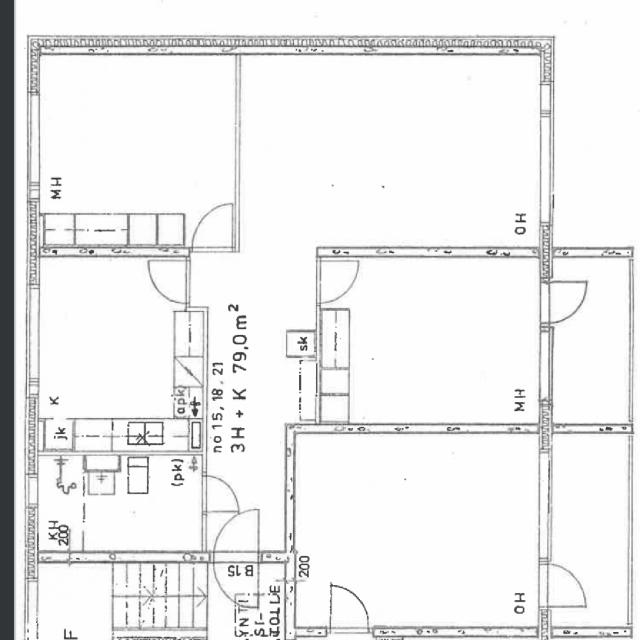door: (213, 550, 259, 612), (213, 501, 259, 562), (538, 281, 594, 324), (146, 261, 189, 303), (316, 261, 360, 302), (192, 206, 229, 252), (202, 476, 241, 512)
